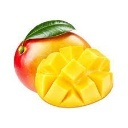mango: (14, 29, 101, 93)
